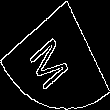M_NE: (30, 21, 80, 89)
